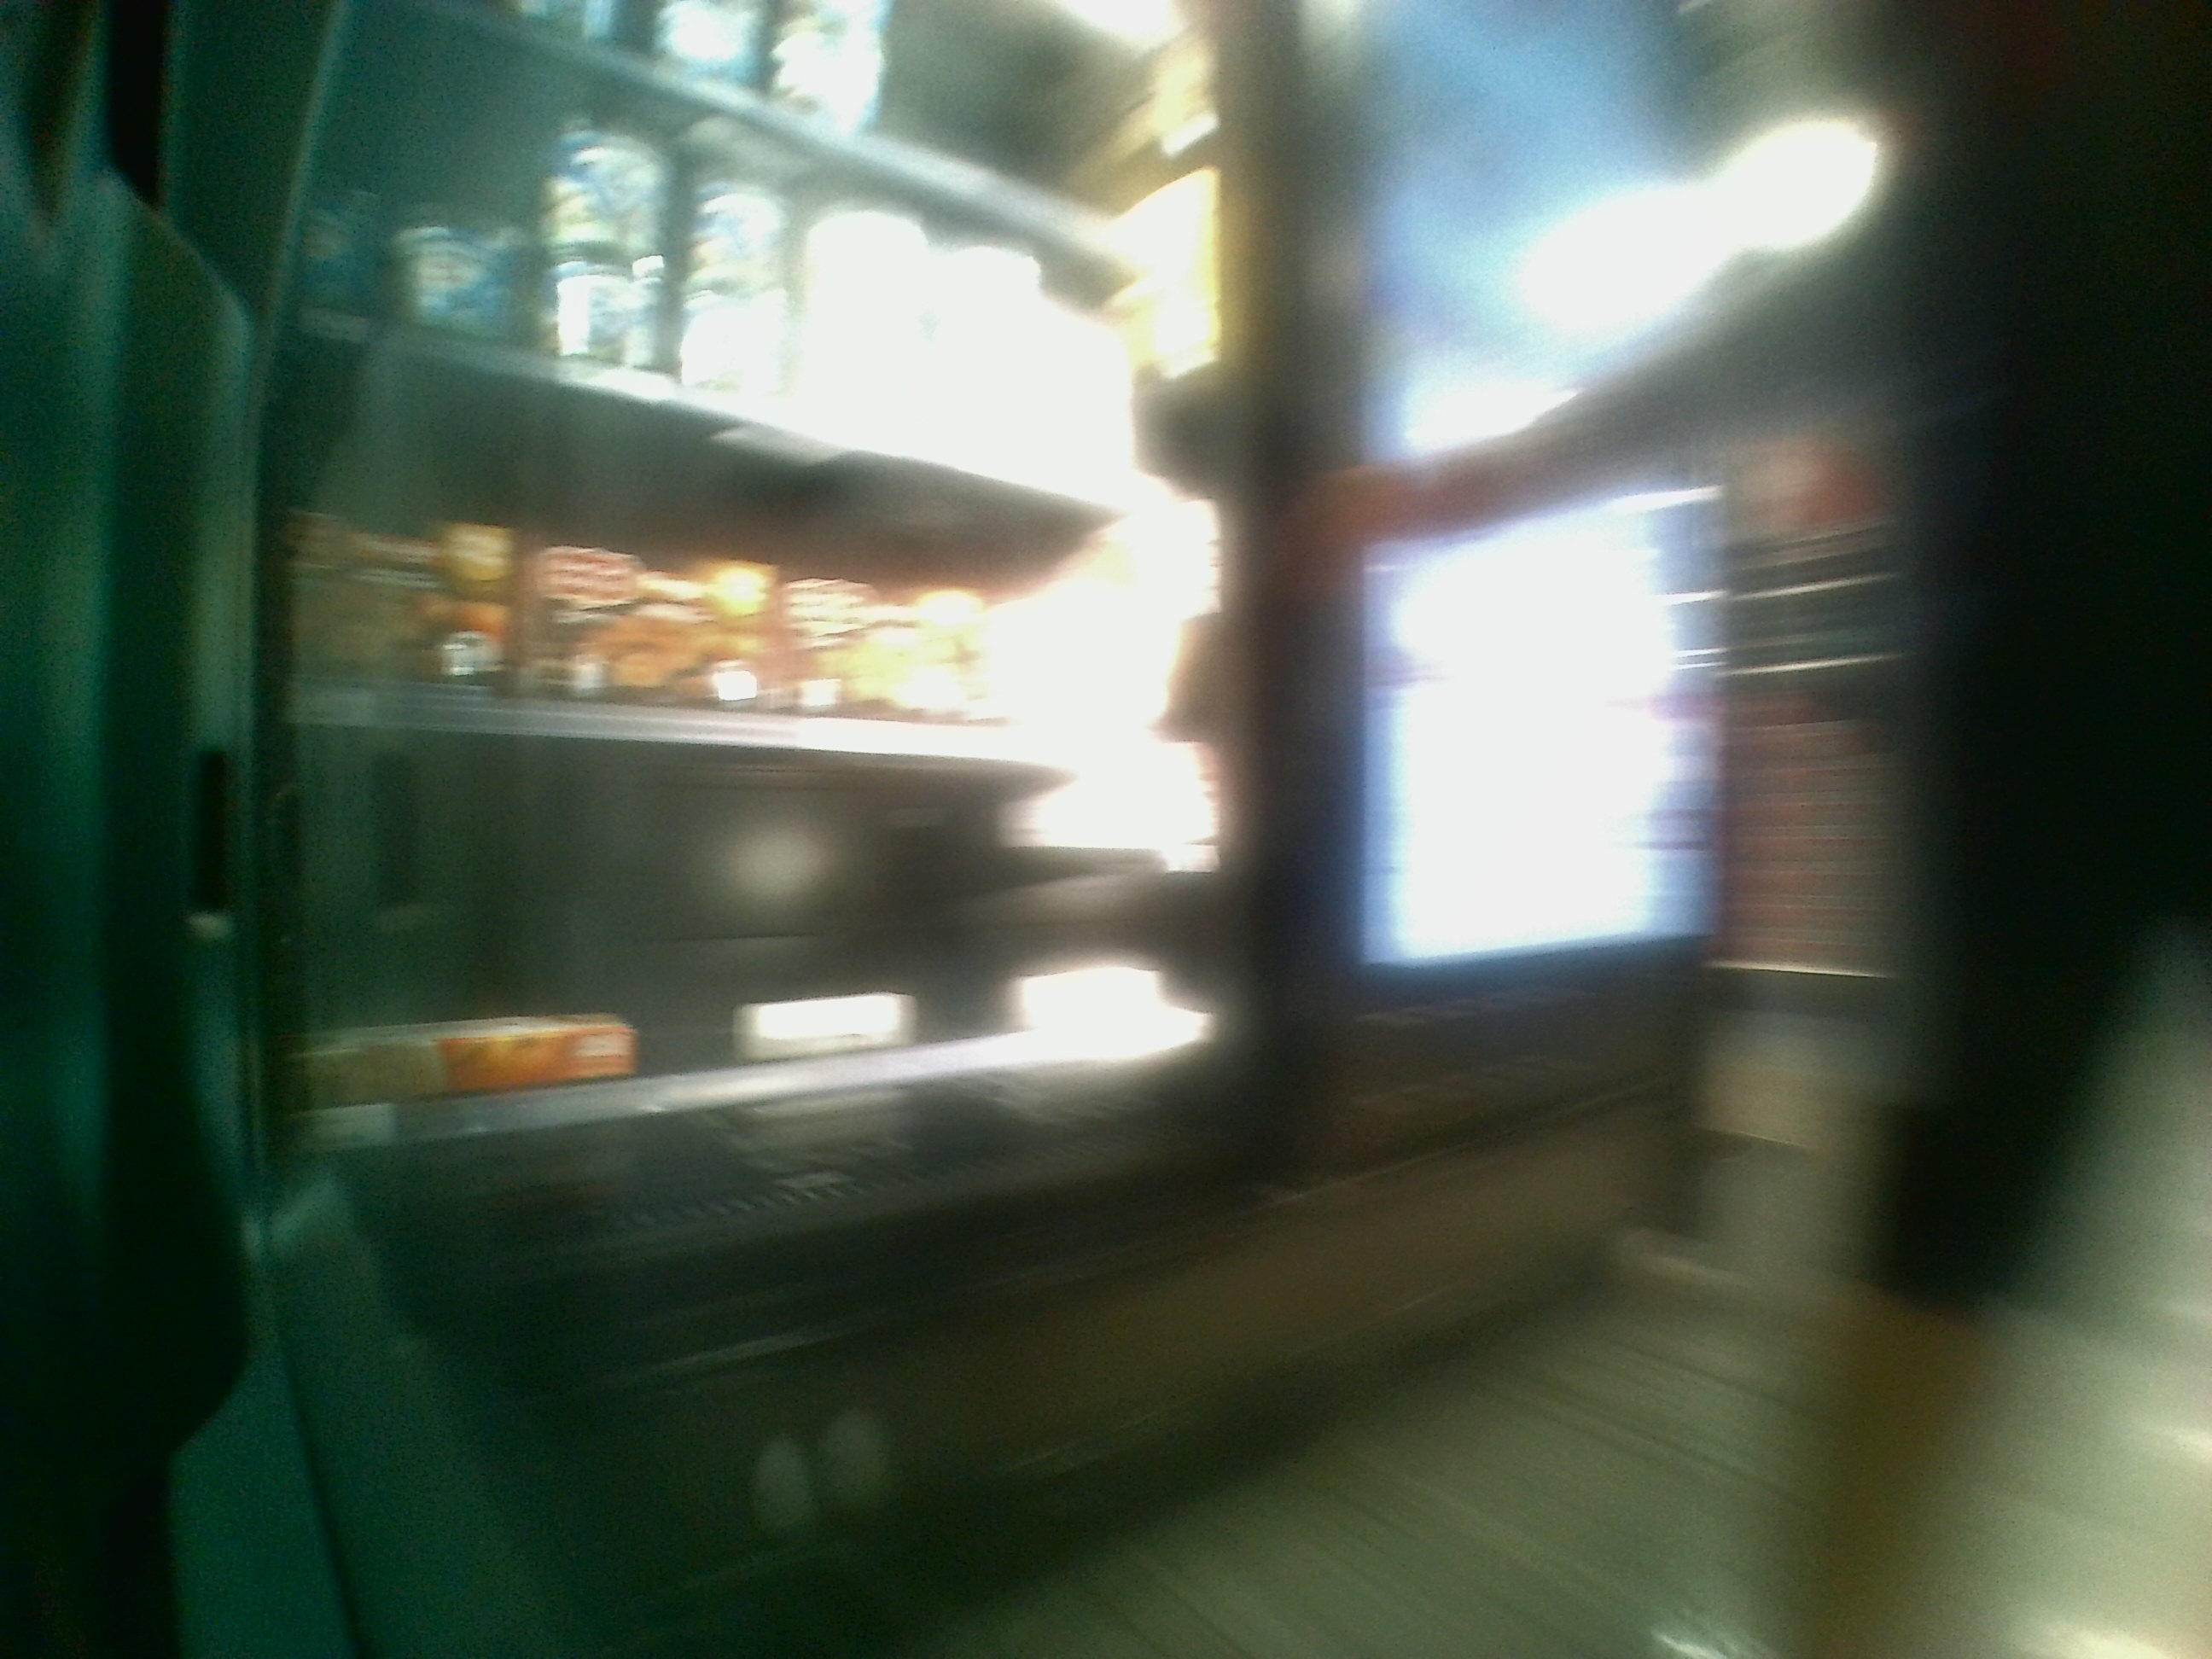shelf: (253, 706, 1181, 1065), (296, 368, 1186, 711)
